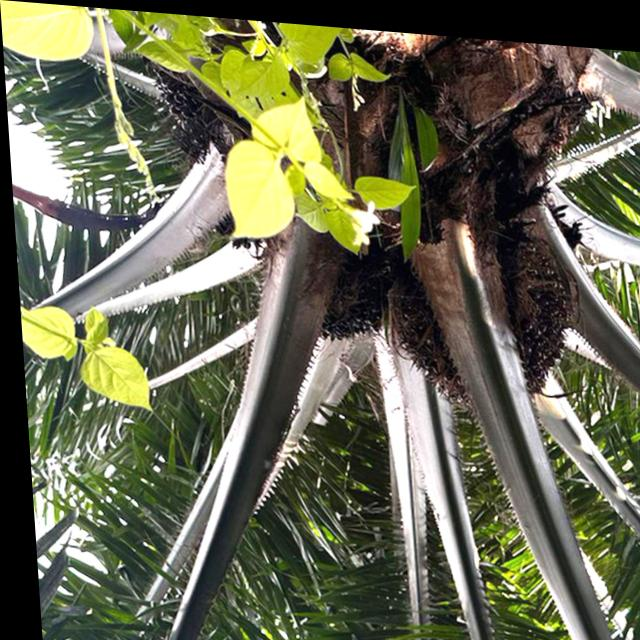unripe: (389, 220, 583, 419), (258, 204, 391, 346)
